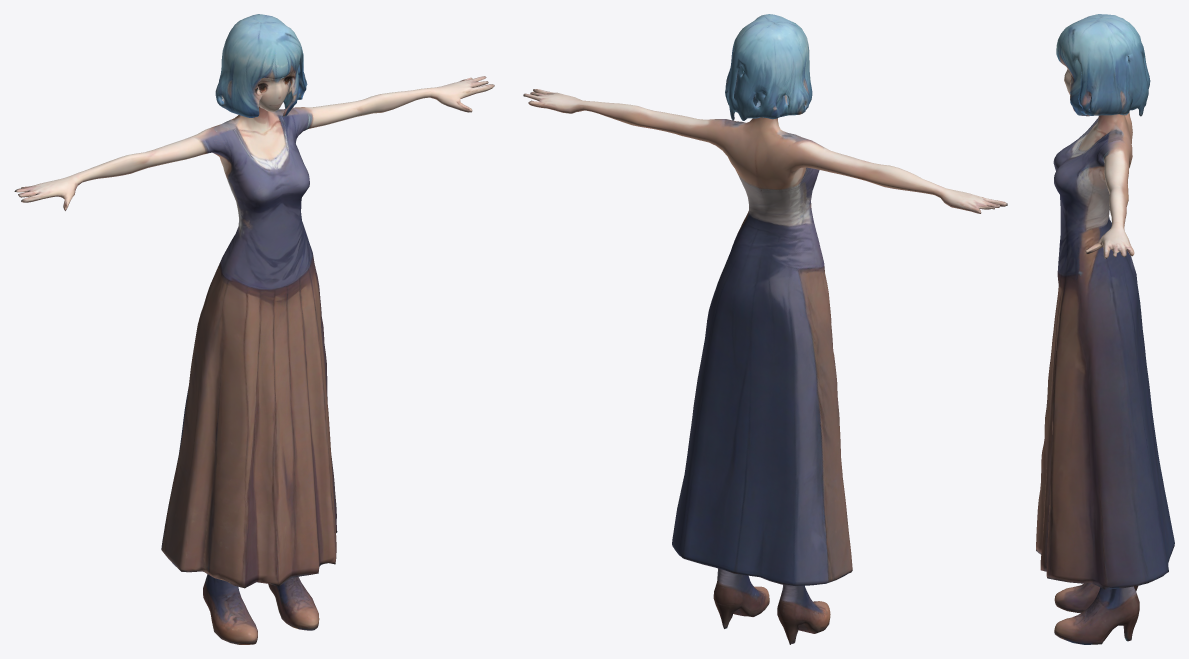
Rendered from girl.glb.
3 renders of one model, left to right at view 1: azimuth 30°, elevation 25°; view 2: azimuth 150°, elevation 25°; view 3: azimuth 270°, elevation 25°, orthographic.
Bounding box in the file's own units: 1.65 × 2 × 0.4155.
1 material, 1 textured.
